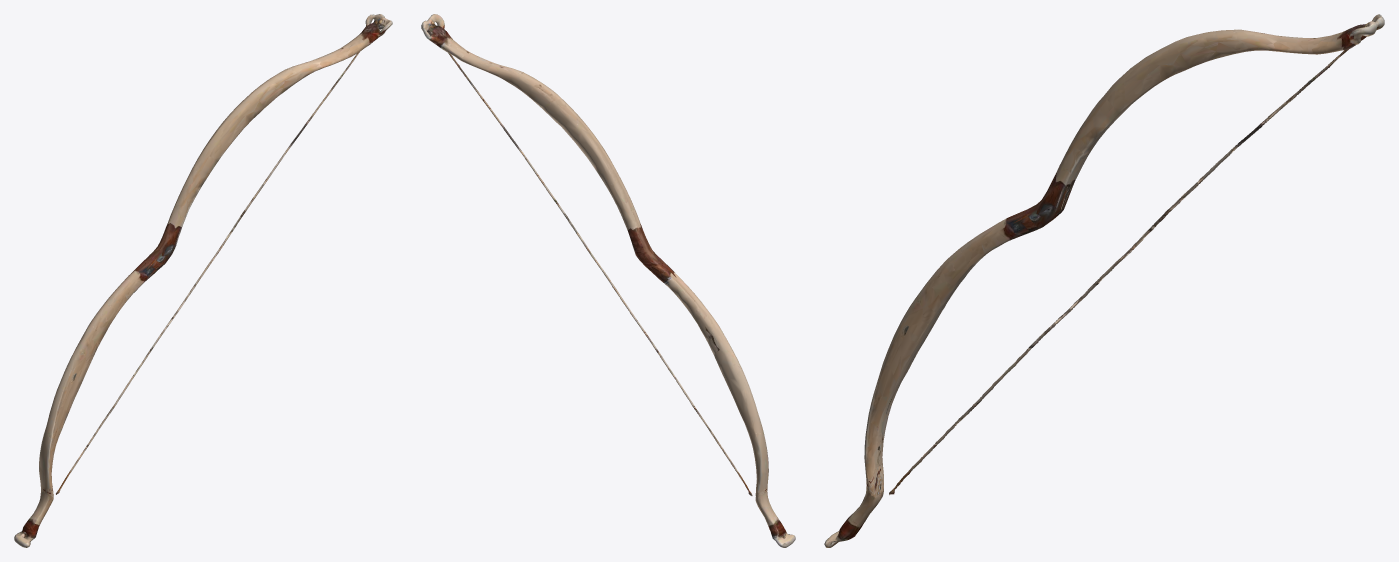
The model's file is bow.glb.
The picture shows the model from 3 angles, left to right: view 1: azimuth 30°, elevation 25°; view 2: azimuth 150°, elevation 25°; view 3: azimuth 330°, elevation 25°; orthographic projection. The views are drawn at different scales.
Parts seen in each view (by area): view 1: Mesh_0; view 2: Mesh_0; view 3: Mesh_0.
Boxes of the visible parts, left/top/right/bottom form: Mesh_0: left=14, top=14, right=392, bottom=547; Mesh_0: left=421, top=14, right=795, bottom=547; Mesh_0: left=824, top=14, right=1384, bottom=547.
Bounding box in the file's own units: 0.8767 × 1 × 0.0726.
Materials: 1 (1 with a texture image).
